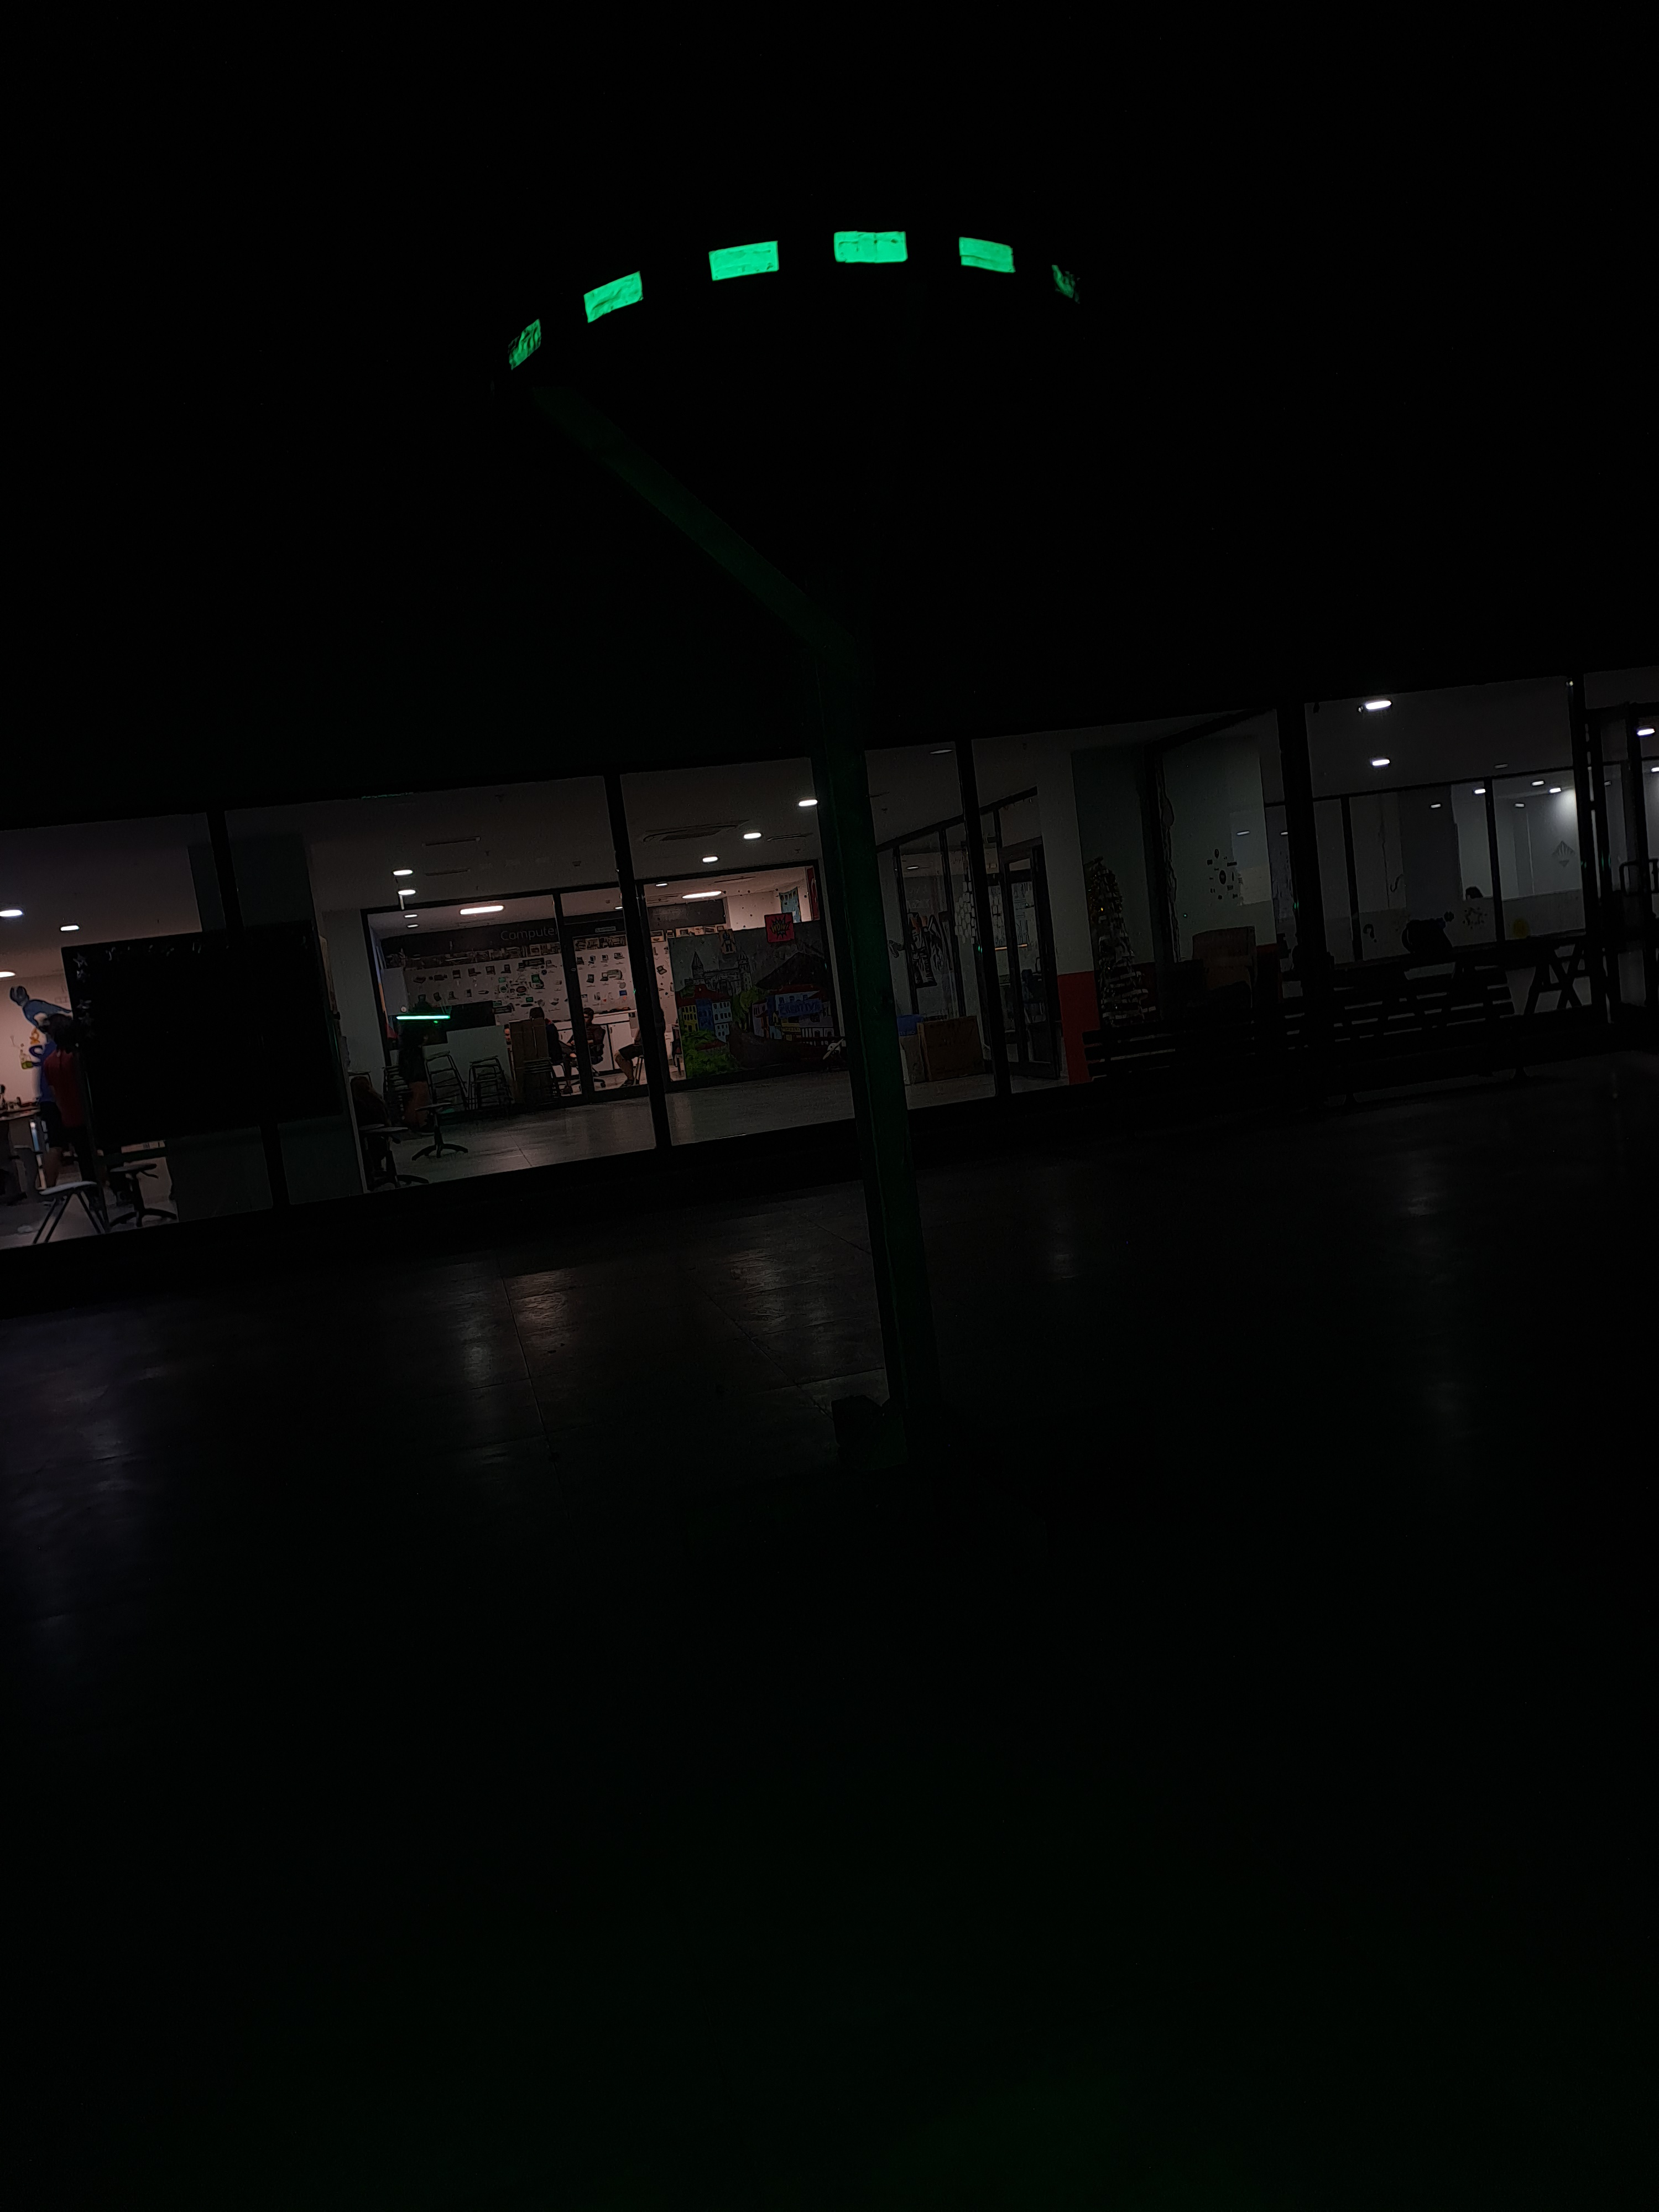hoop: (497, 232, 1082, 374)
